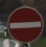No entry: (5, 5, 40, 42)
